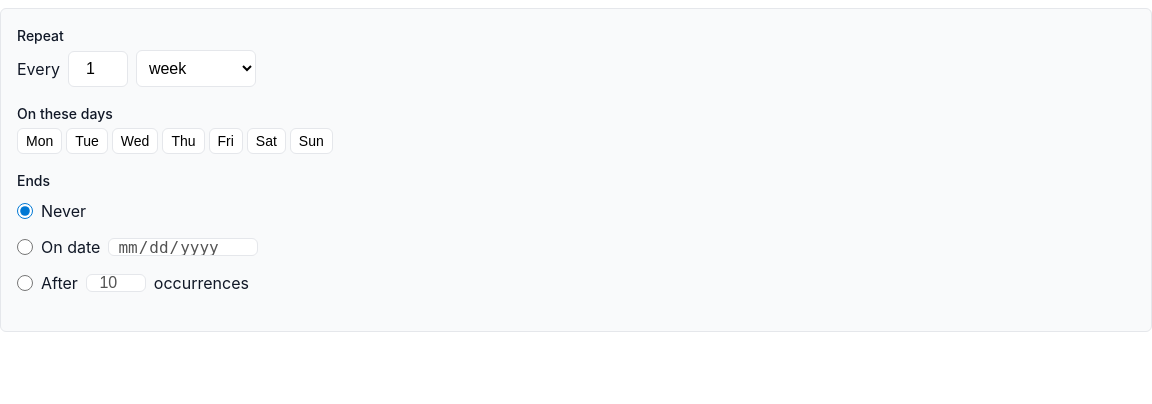
RecurrenceSelector › monthly recurrence › should show monthly options for monthly type
This screenshot has width=1152, height=404.
Select "week" in the dropdown with class "type-select" at (196, 68), box left=136, top=50, right=256, bottom=87
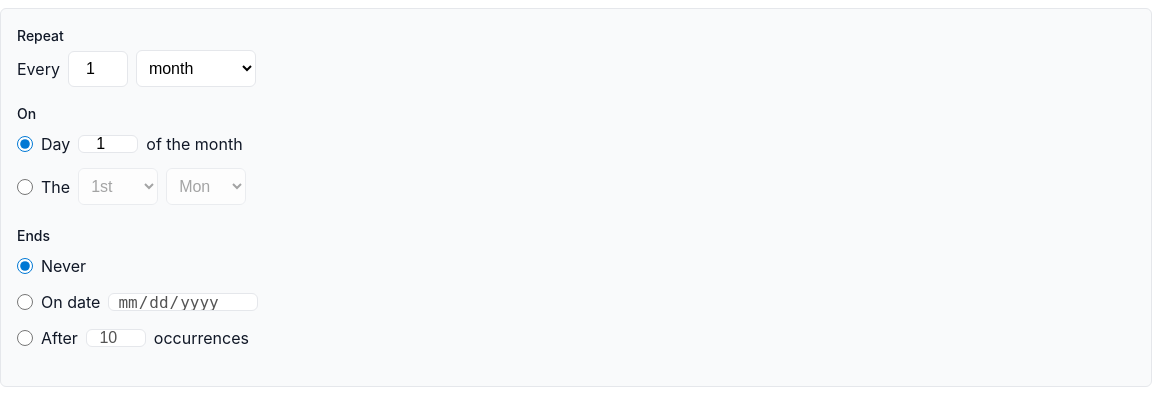
Expected: the number field with class "day-input" is shown, left=78, top=135, right=138, bottom=153
Expected: the 2nd dropdown is shown, left=78, top=168, right=158, bottom=205
